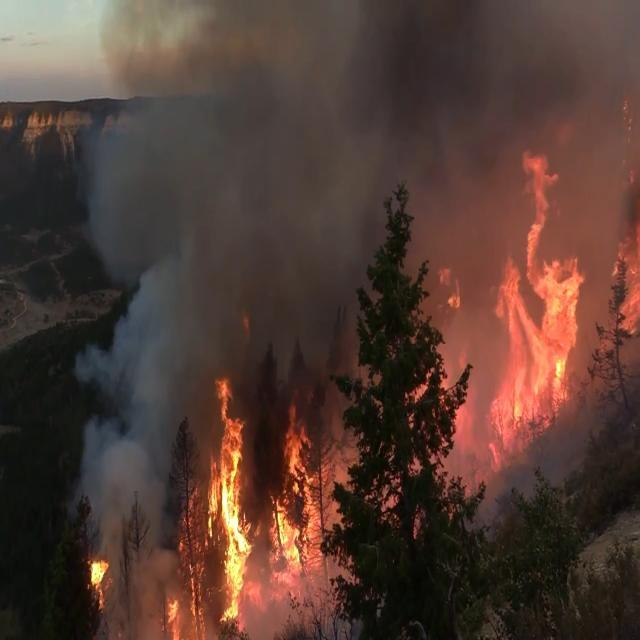Fire: (89, 148, 582, 594)
